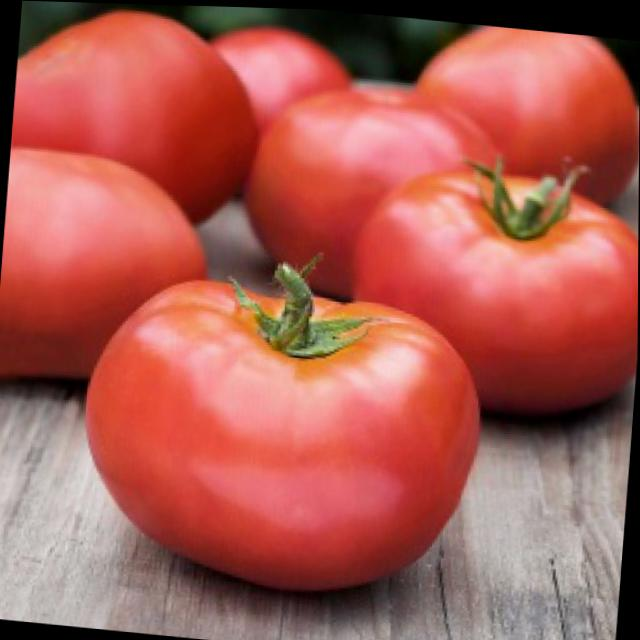tomato: (75, 266, 487, 594), (348, 153, 639, 424), (236, 75, 506, 311), (6, 1, 268, 231), (0, 148, 215, 402), (409, 16, 640, 204)
